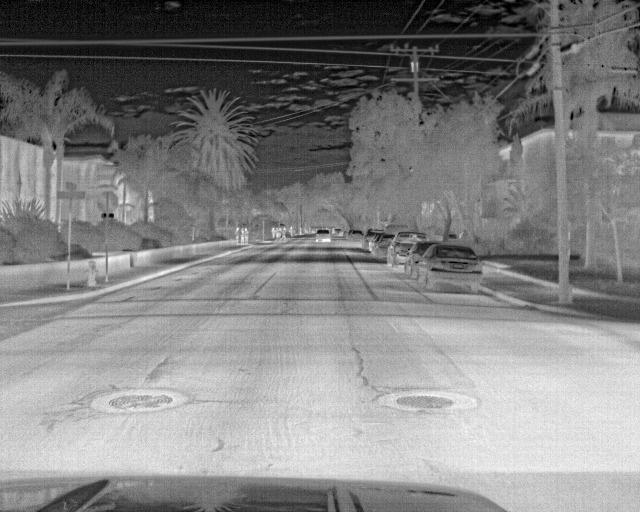car: (414, 244, 483, 293), (390, 230, 425, 265), (404, 240, 431, 283), (363, 225, 386, 249), (376, 235, 397, 259), (346, 228, 366, 244), (315, 228, 332, 243)
